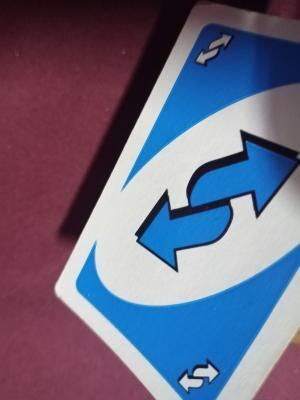blue: (182, 62, 275, 358)
reverse: (165, 355, 231, 394), (191, 29, 235, 67)
